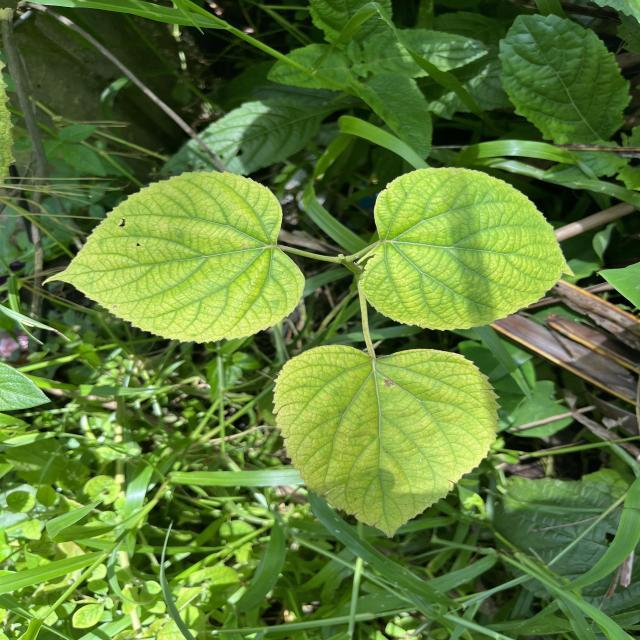Clerodendrum infortunatum: (41, 168, 306, 346), (270, 342, 505, 540), (358, 166, 574, 331)
